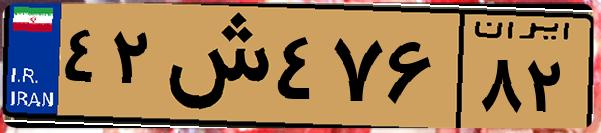2: (525, 38, 570, 115), (110, 28, 158, 98)
4: (270, 28, 330, 110), (57, 26, 110, 100)
6: (385, 28, 445, 110)
7: (330, 28, 385, 110)
8: (475, 38, 525, 113)
ش: (158, 12, 270, 120)
